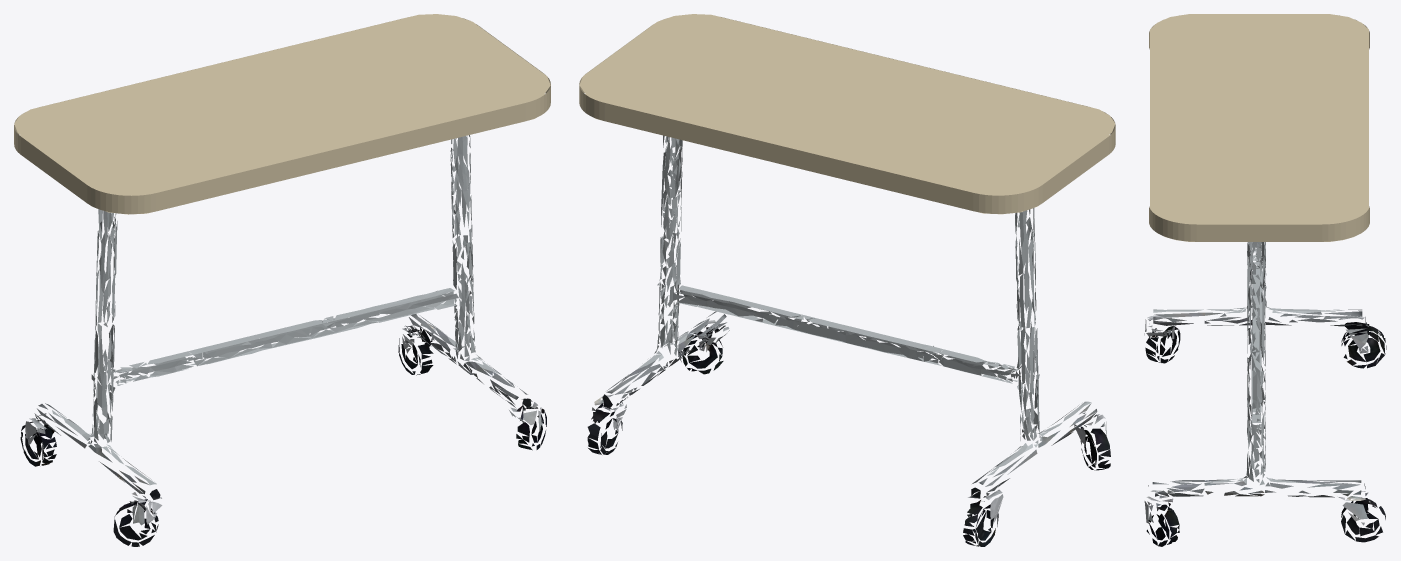
3 views of the same model, side by side, from view 1: azimuth 30°, elevation 25°; view 2: azimuth 150°, elevation 25°; view 3: azimuth 270°, elevation 25° (orthographic). The views are drawn at different scales.
Parts seen in each view (by area): view 1: Rounded flat tabletop, geometry_0; view 2: Rounded flat tabletop, geometry_0; view 3: Rounded flat tabletop, geometry_0.
Boxes of the visible parts, x1=… form: Rounded flat tabletop: x1=14, y1=14, x2=550, y2=214; geometry_0: x1=20, y1=135, x2=546, y2=546; Rounded flat tabletop: x1=579, y1=14, x2=1115, y2=214; geometry_0: x1=587, y1=135, x2=1110, y2=546; Rounded flat tabletop: x1=1149, y1=14, x2=1369, y2=241; geometry_0: x1=1144, y1=242, x2=1386, y2=546.
Bounding box in the file's own units: 1.35 × 1 × 0.6571.
Materials: 3 (1 with a texture image).
